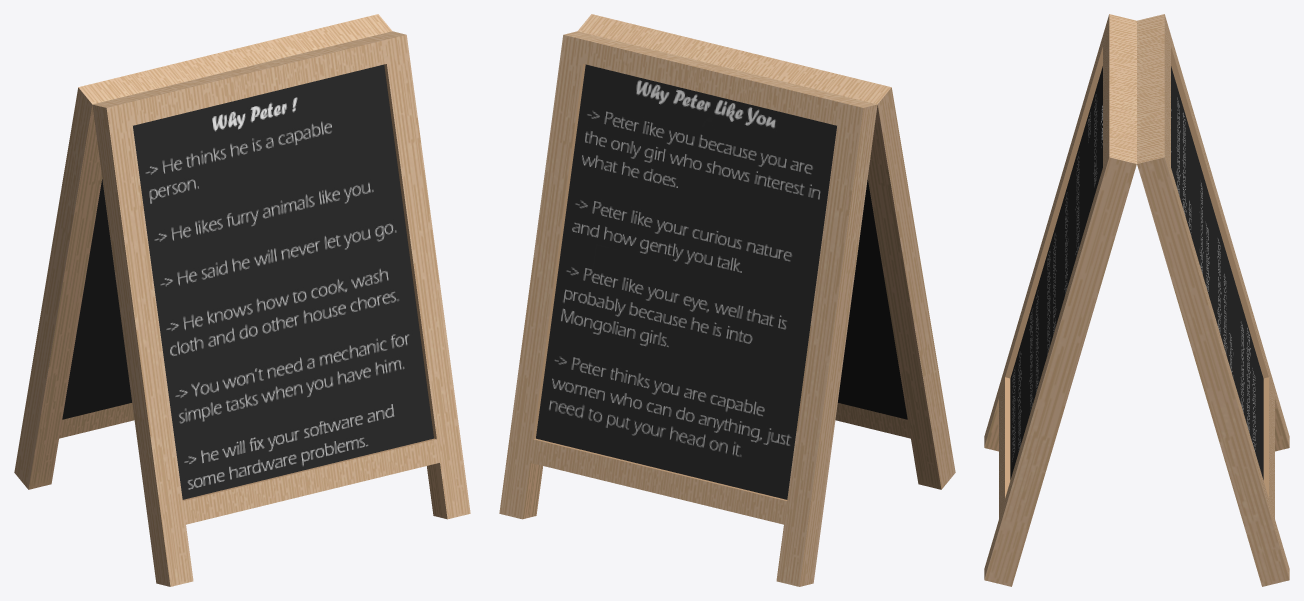
File: Chalkboard.fbx
The picture shows the model from 3 angles, left to right: view 1: azimuth 30°, elevation 25°; view 2: azimuth 150°, elevation 25°; view 3: azimuth 270°, elevation 25°; orthographic projection. The views are drawn at different scales.
Parts seen in each view (by area): view 1: Chalkboard_Object; view 2: Chalkboard_Object; view 3: Chalkboard_Object.
Boxes of the visible parts, left/top/right/bottom form: Chalkboard_Object: left=14, top=14, right=470, bottom=586; Chalkboard_Object: left=499, top=14, right=955, bottom=586; Chalkboard_Object: left=984, top=14, right=1289, bottom=586.
Bounding box in the file's own units: 200 × 280 × 180.
Materials: 1 (1 with a texture image).
